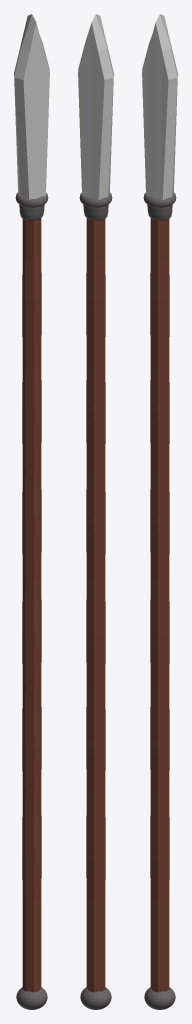
Rendered from sulita.fbx.
The picture shows the model from 3 angles, left to right: view 1: azimuth 30°, elevation 25°; view 2: azimuth 150°, elevation 25°; view 3: azimuth 330°, elevation 25°; orthographic projection.
Parts seen in each view (by area): view 1: Cube, Cube.002, Sphere, Torus, Torus.001; view 2: Cube, Cube.002, Sphere, Torus, Torus.001; view 3: Cube, Cube.002, Sphere, Torus, Torus.001.
Part boxes in pixels (x1,y1,x2,y2): Cube: (22,218,41,992); Cube.002: (14,14,49,199); Sphere: (16,987,47,1009); Torus: (19,204,44,220); Torus.001: (15,192,48,207); Cube: (86,218,105,992); Cube.002: (78,14,113,200); Sphere: (80,987,111,1009); Torus: (83,204,108,220); Torus.001: (79,192,112,207); Cube: (150,218,169,992); Cube.002: (142,14,177,199); Sphere: (144,987,175,1009); Torus: (147,204,172,220); Torus.001: (143,192,176,207).
Size of the model in its own units: 31.24 by 841 by 25.
